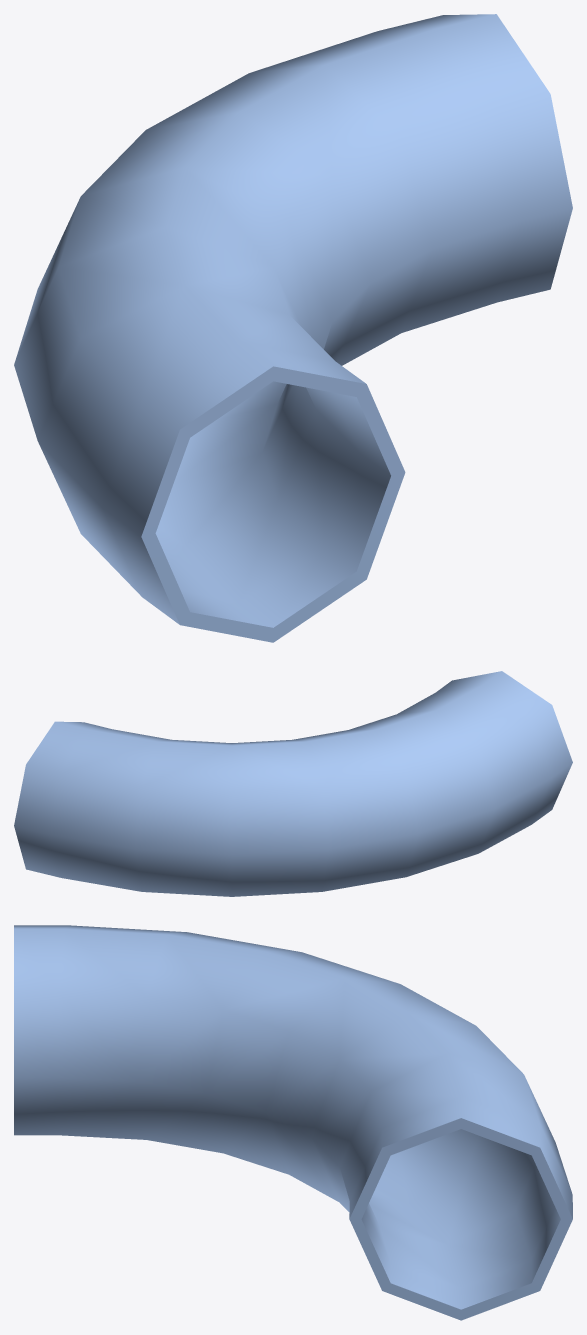
File: PipeSmall_Hollow_Bent_02.fbx
3 views of the same model, one above another, from view 1: azimuth 30°, elevation 25°; view 2: azimuth 150°, elevation 25°; view 3: azimuth 270°, elevation 25° (orthographic). The views are drawn at different scales.
Parts seen in each view (by area): view 1: PipeSmall_Hollow_Bent_02.001; view 2: PipeSmall_Hollow_Bent_02.001; view 3: PipeSmall_Hollow_Bent_02.001.
Boxes of the visible parts, x1,y1,x2,y2 form: PipeSmall_Hollow_Bent_02.001: (14, 14, 572, 642); PipeSmall_Hollow_Bent_02.001: (14, 671, 572, 896); PipeSmall_Hollow_Bent_02.001: (14, 925, 572, 1320).
Bounding box in the file's own units: 0.25 × 0.1 × 0.25.
